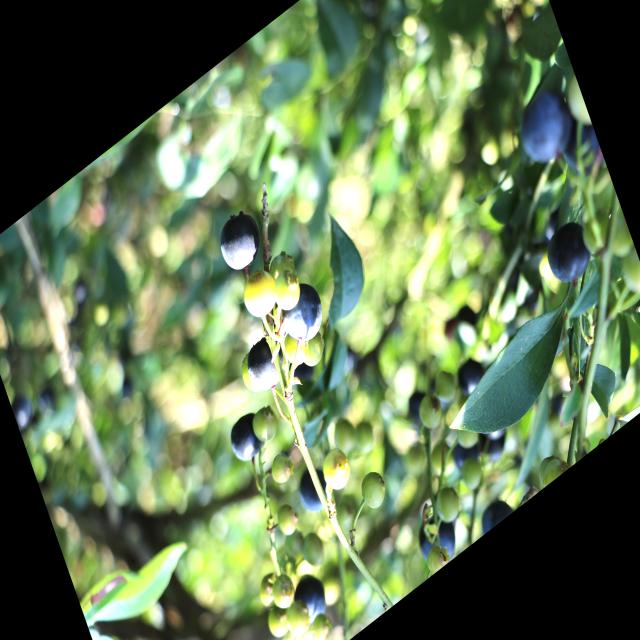blueberry: (514, 75, 582, 178), (540, 208, 601, 302), (213, 201, 268, 283), (274, 280, 328, 360), (240, 322, 290, 398), (223, 402, 273, 473), (292, 453, 339, 525), (290, 563, 334, 629)
blueberry-unripe: (238, 263, 282, 326), (318, 443, 354, 498), (269, 266, 304, 318), (248, 400, 284, 450), (358, 464, 390, 514), (329, 410, 360, 460), (432, 480, 463, 530), (415, 388, 446, 437), (265, 244, 299, 286), (427, 443, 457, 489), (273, 498, 303, 543), (299, 330, 330, 373), (236, 350, 263, 399), (270, 570, 300, 612), (422, 534, 452, 576), (284, 598, 313, 640), (431, 364, 458, 409), (284, 329, 312, 370), (351, 416, 379, 457), (300, 528, 327, 569), (458, 455, 484, 496), (268, 449, 295, 488), (255, 570, 280, 611), (263, 604, 291, 640)
